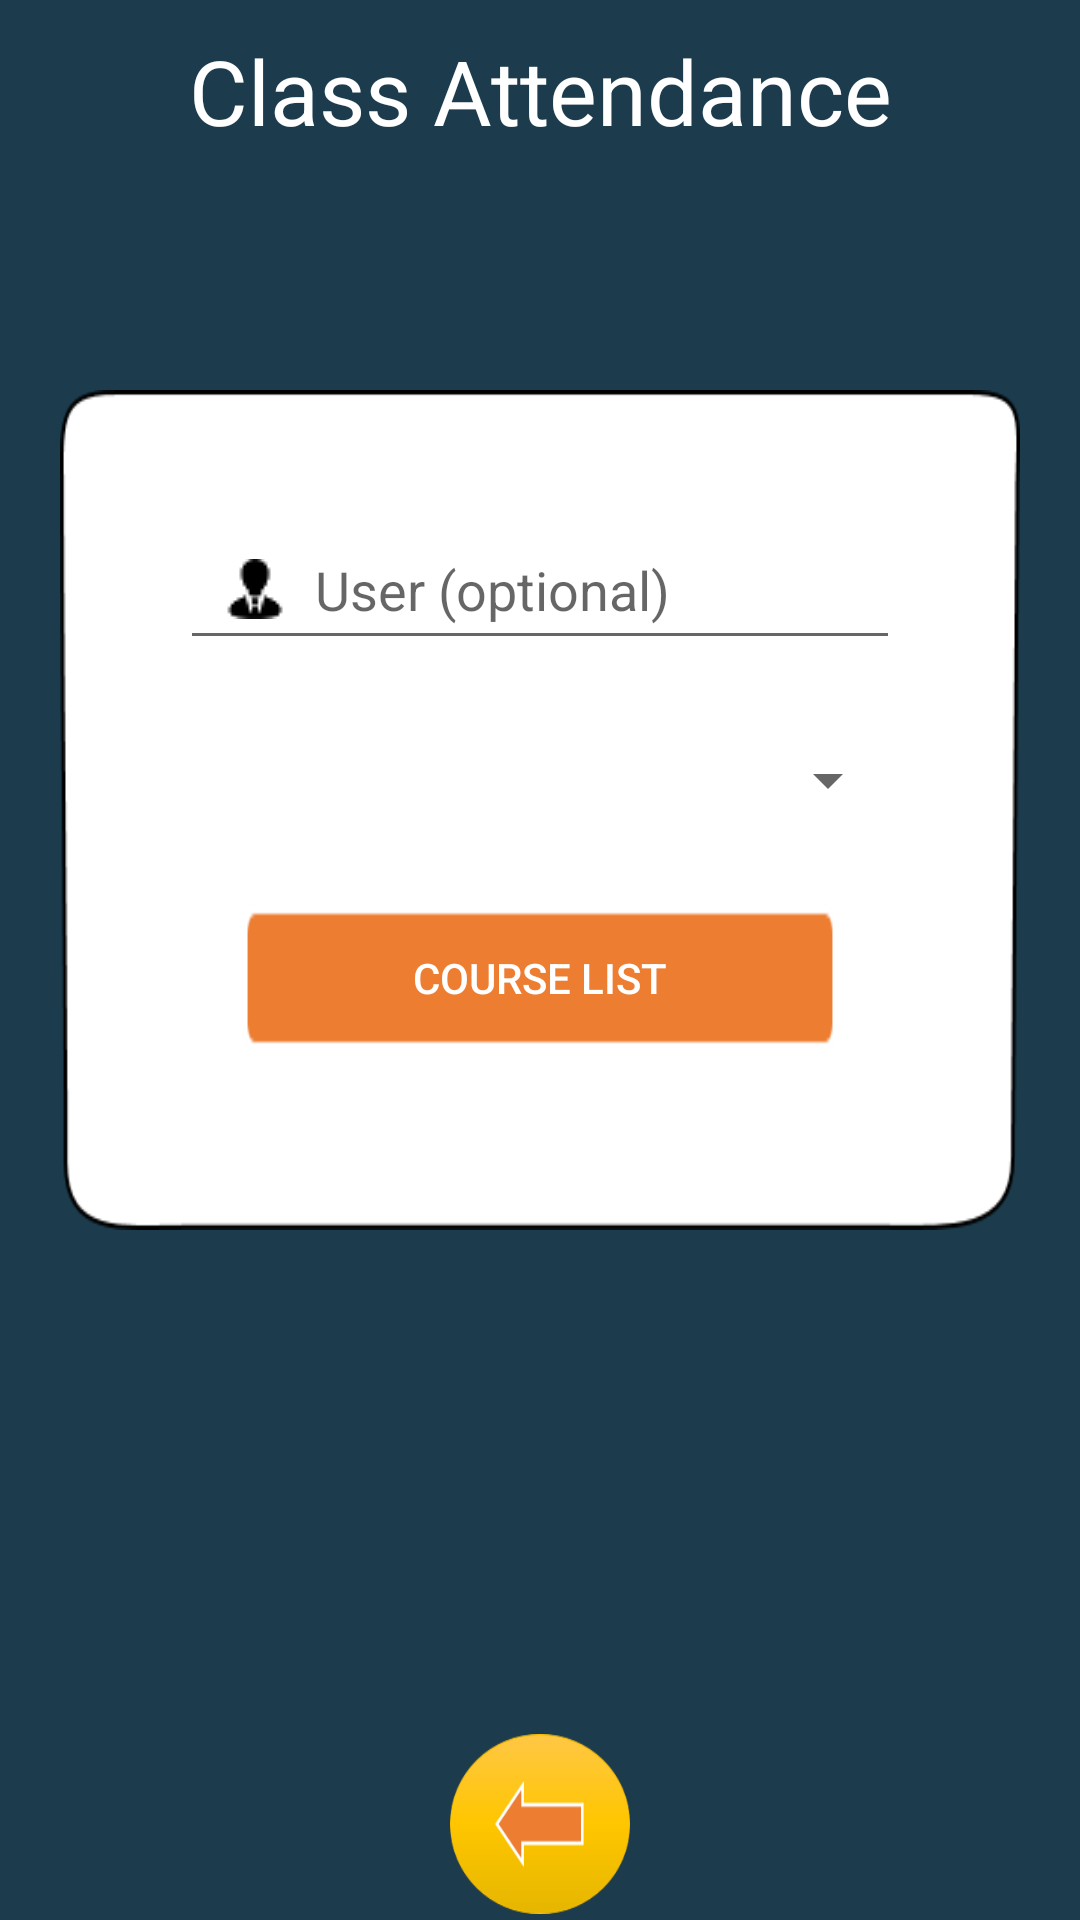

Screen size 1080px×1920px. Icon name, then its center in pixels as point (x, y):
back: point (540, 1824)
